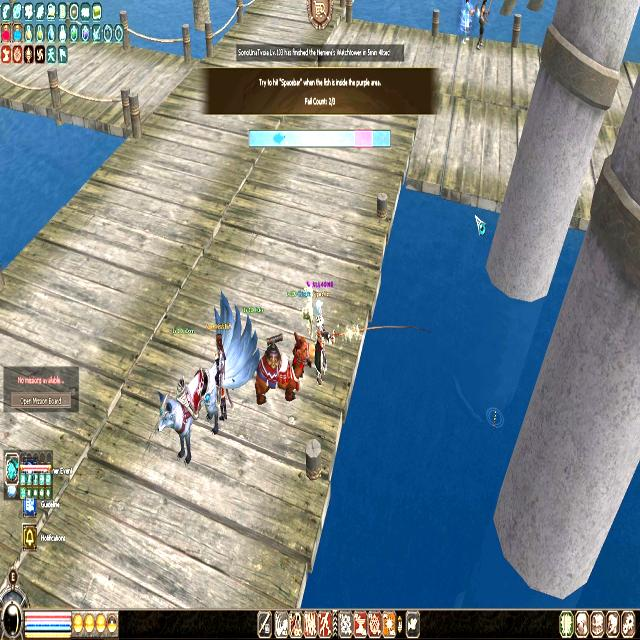box: (354, 131, 372, 146)
fishes: (273, 132, 286, 144)
